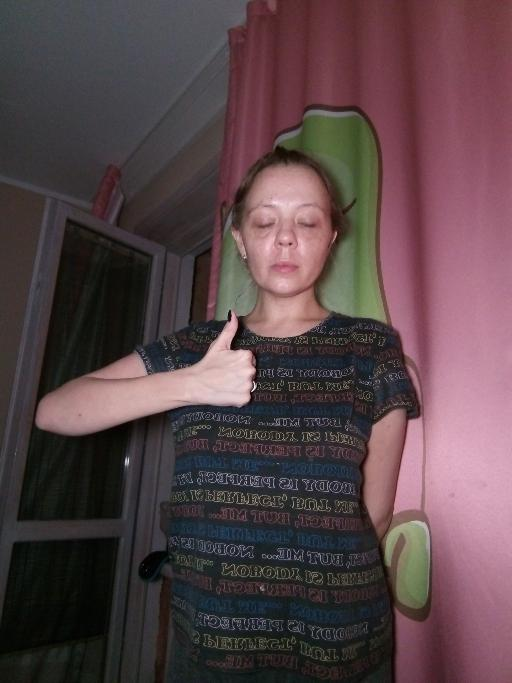like: (190, 306, 258, 410)
